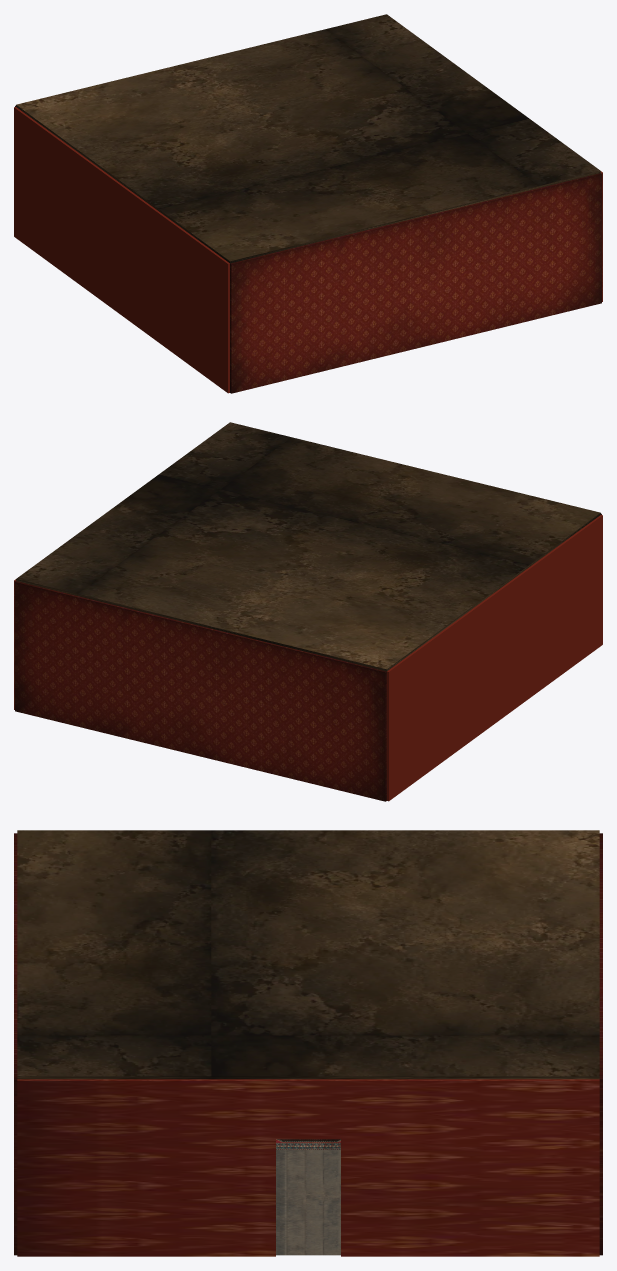
File: room.glb
3 renders of one model, top to bottom at view 1: azimuth 30°, elevation 25°; view 2: azimuth 150°, elevation 25°; view 3: azimuth 270°, elevation 25°, orthographic. The views are drawn at different scales.
Visible parts, largest first — view 1: roof, wall.002, wall.001; view 2: roof, wall, wall.001; view 3: roof, wall-door, floor, wall, wall.002, Plane.
Part boxes in pixels (bbox=[...]): roof: bbox=[16, 14, 600, 263]; wall.002: bbox=[230, 173, 601, 393]; wall.001: bbox=[14, 107, 229, 393]; roof: bbox=[16, 422, 600, 671]; wall: bbox=[15, 581, 386, 801]; wall.001: bbox=[387, 515, 602, 801]; roof: bbox=[17, 830, 599, 1079]; wall-door: bbox=[17, 1079, 599, 1256]; floor: bbox=[276, 1149, 340, 1255]; wall: bbox=[599, 833, 602, 1255]; wall.002: bbox=[14, 833, 17, 1255]; Plane: bbox=[276, 1139, 340, 1149].
Bounding box in the file's own units: 9.1 × 3.06 × 9.1.
Materials: 15 (15 with a texture image).
